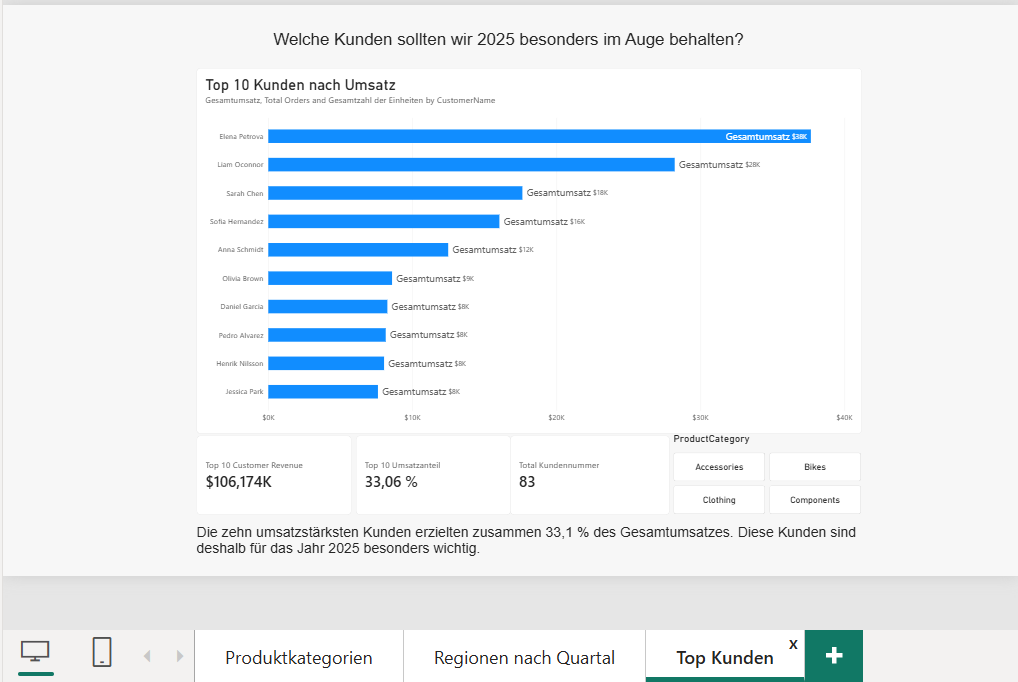

This screenshot's page, from the dashboard's own definition file:
{"tool":"powerbi","page":{"name":"Top Kunden","canvas":[1920,1080],"ordinal":2},"visuals":[{"type":"textbox","box":[10.9,45.2,1887.5,77.8],"z":0},{"type":"barChart","title":"Top 10 Kunden nach Umsatz","fields":{"Category":["DimCustomer.CustomerName"],"Y":["FactOrders.Gesamtumsatz"]},"box":[365,120,1257.6,691.6],"z":1000},{"type":"cardVisual","fields":{"Data":["FactOrders.Top 10 Customer Revenue","FactOrders.Top 10 Umsatzanteil"]},"box":[364.3,813,594.9,150.3],"z":2000},{"type":"textbox","box":[364.3,981.8,1257.6,76.2],"z":3000},{"type":"cardVisual","fields":{"Data":["FactOrders.Total Kundennummer"]},"box":[959.2,813,302.6,150.3],"z":4000},{"type":"advancedSlicerVisual","fields":{"Values":["FactOrders.ProductCategory"]},"box":[1267.9,808.9,354,154.4],"z":5000}]}

Visuals, with their boxes on the page's 1920x1080 design canvas (x1, y1, x2, y2). These are canvas units, not pixel positions in the 1018x682 screenshot, which may show the page scaled, cropped or inside an application window:
textbox: (11, 45, 1898, 123)
"Top 10 Kunden nach Umsatz" barChart: (365, 120, 1623, 812)
cardVisual - FactOrders.Top 10 Customer Revenue x FactOrders.Top 10 Umsatzanteil: (364, 813, 959, 963)
textbox: (364, 982, 1622, 1058)
cardVisual - FactOrders.Total Kundennummer: (959, 813, 1262, 963)
advancedSlicerVisual - FactOrders.ProductCategory: (1268, 809, 1622, 963)
